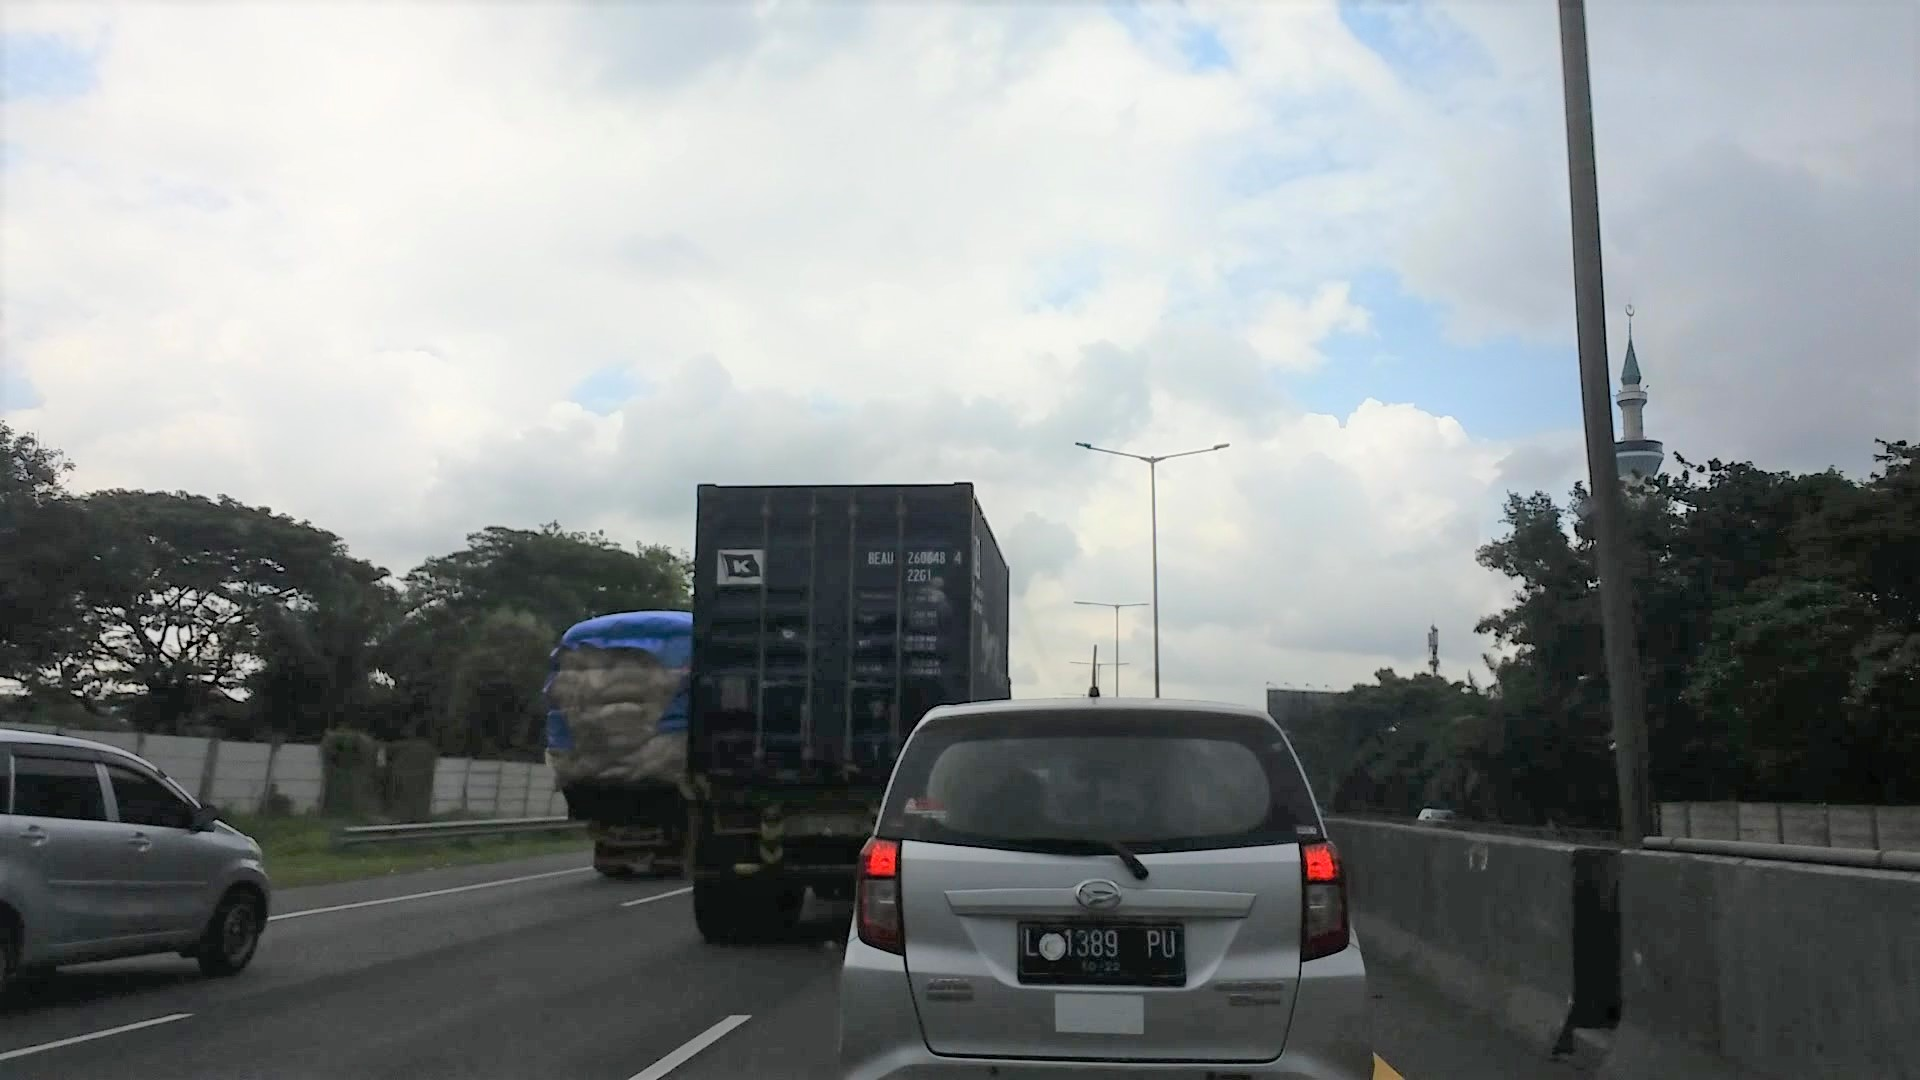plate_positive: (1017, 919, 1187, 986)
